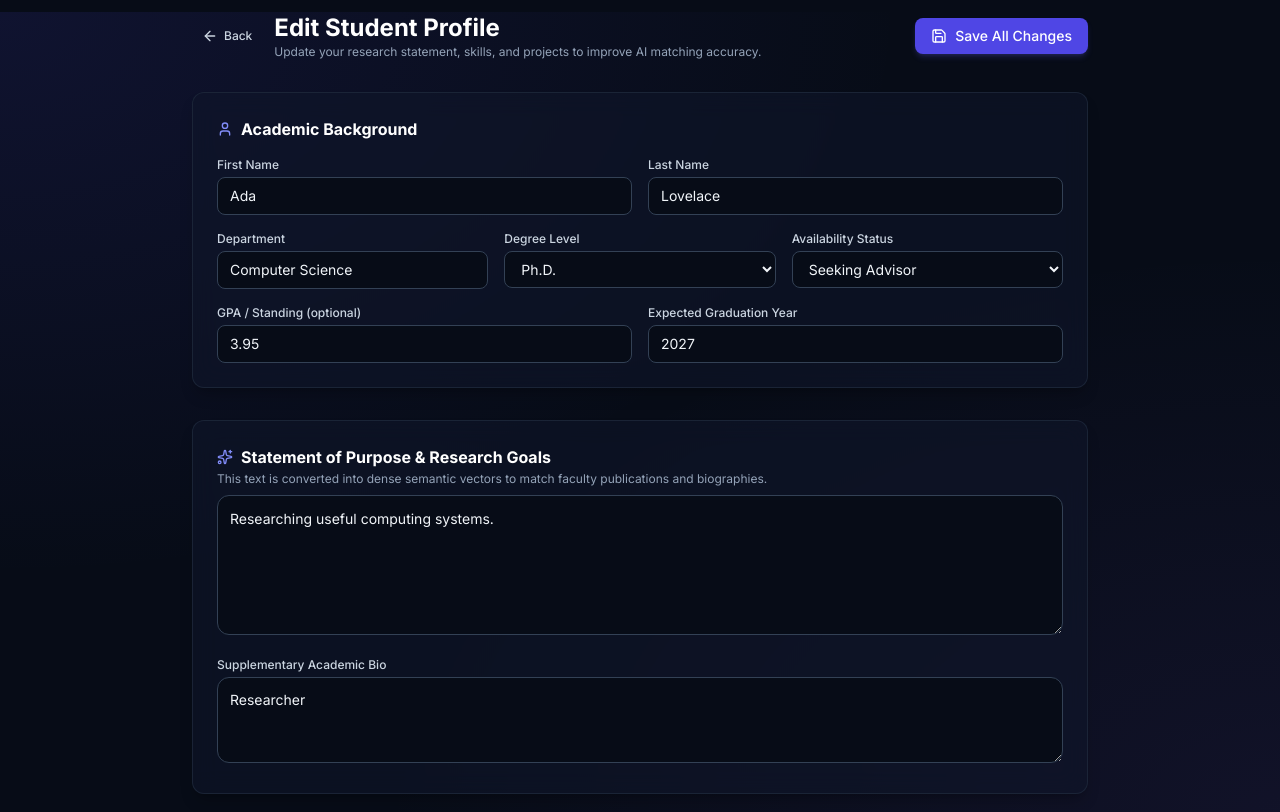
it: Phase 5.3.2 frontend regressions › submits edited profile data from the header save button
Replace the text in the field showing "Ada" with "Augusta" at (424, 196), box [217, 177, 632, 215]
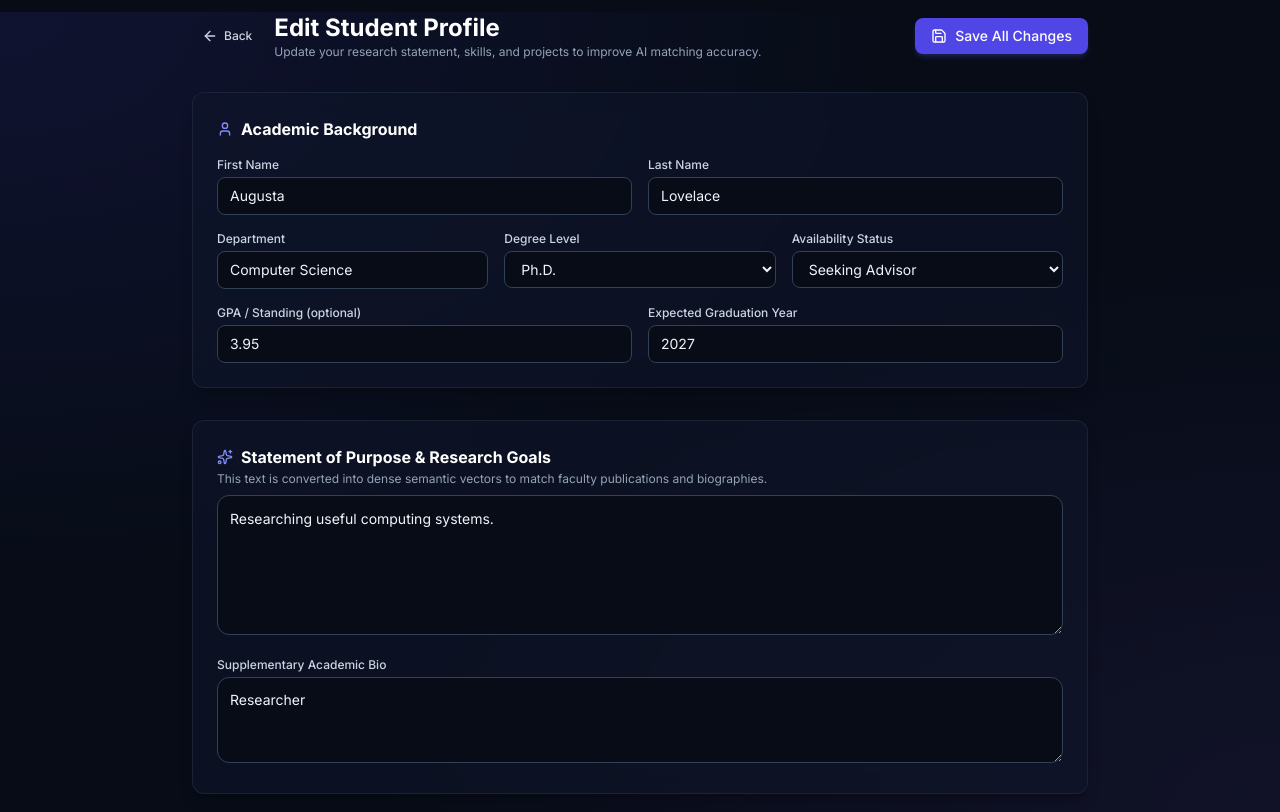
Click the button "Save All Changes".
click(1002, 36)  # box [915, 18, 1088, 54]
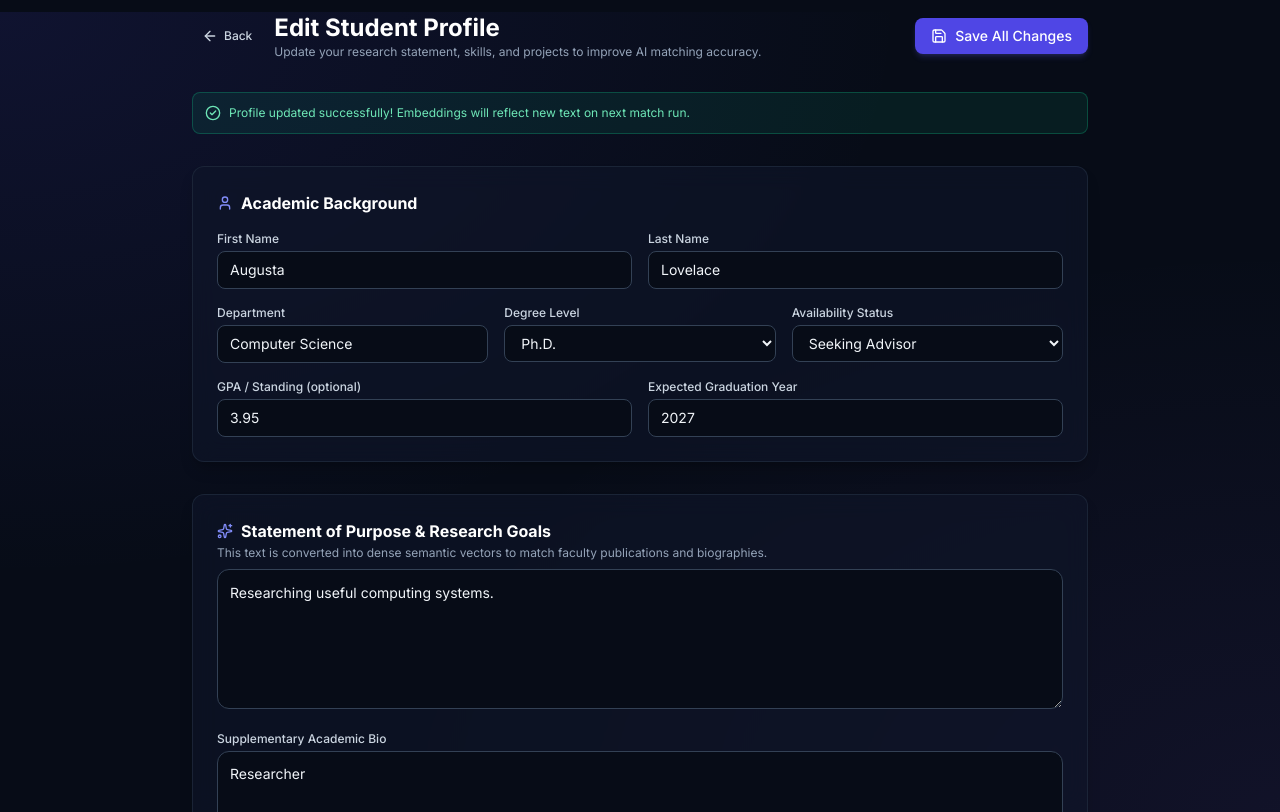
Expected: the text "Profile updated successfully" is shown, [229, 105, 690, 120]
